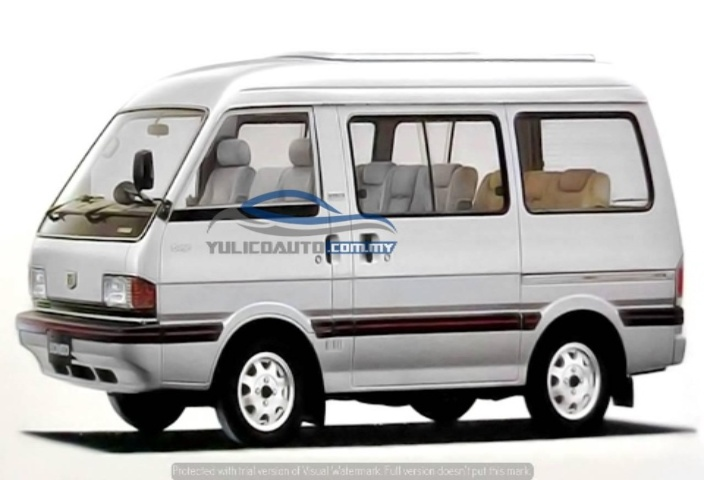van: (13, 42, 704, 456)
